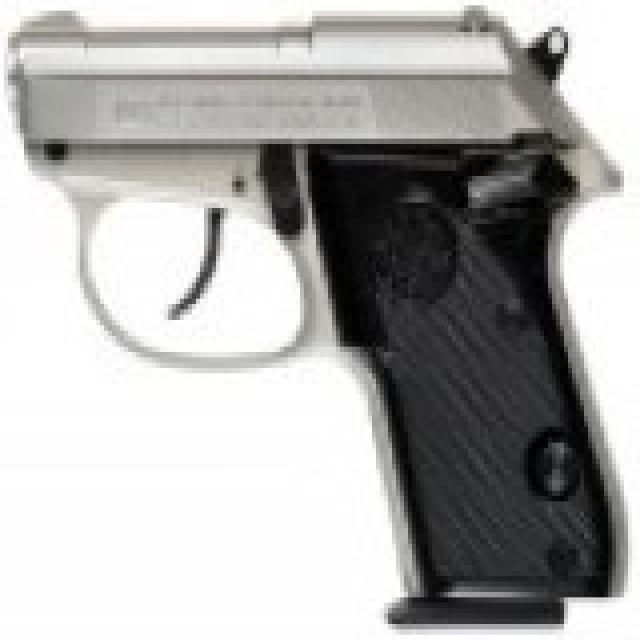Gun: (8, 14, 613, 614)
